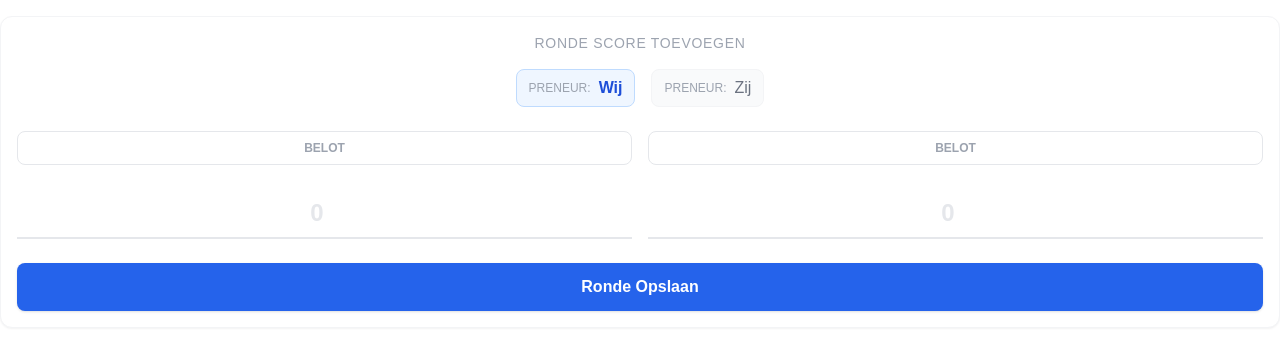
Test case: RoundInputForm Logic › clears inputs after successful submit
Type "81" into the 1st number field with placeholder "0" at point(324, 214), box [17,189,632,239]
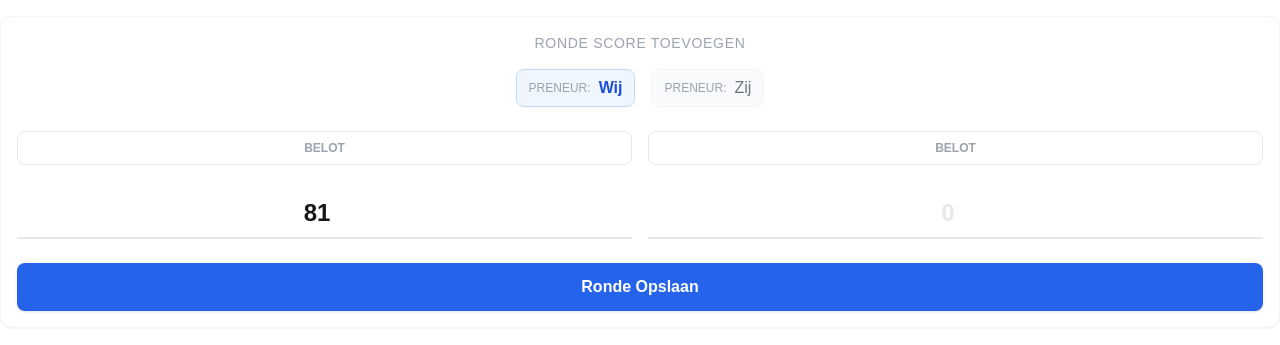
Type "81" into the number field with placeholder "0" at point(956, 214), box [648,189,1263,239]
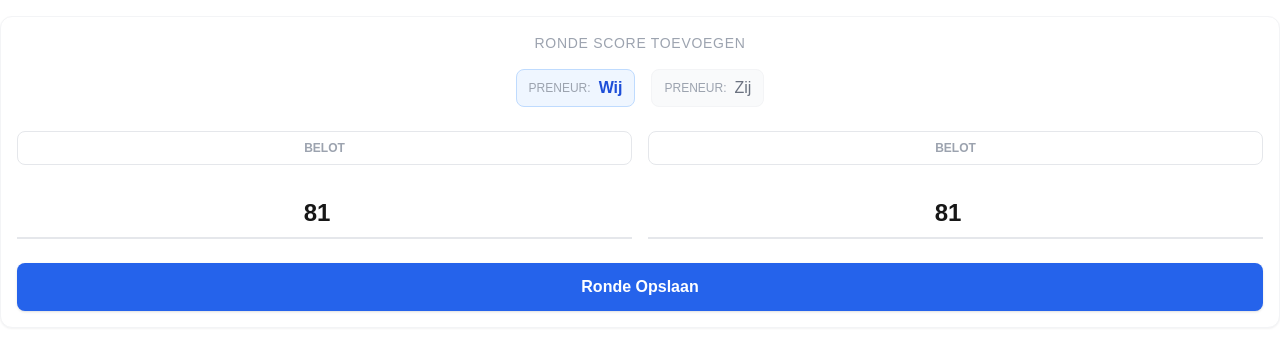
Click the button "Ronde Opslaan" at point(640, 287), box [17,263,1263,311]
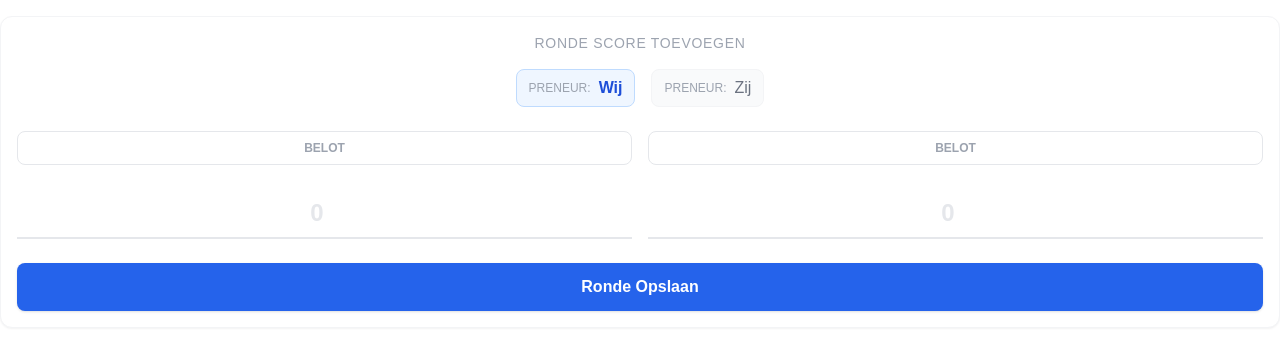
Expected: the 1st number field with placeholder "0" is not empty, [17,189,632,239]
Expected: the 2nd number field with placeholder "0" is not empty, [648,189,1263,239]
